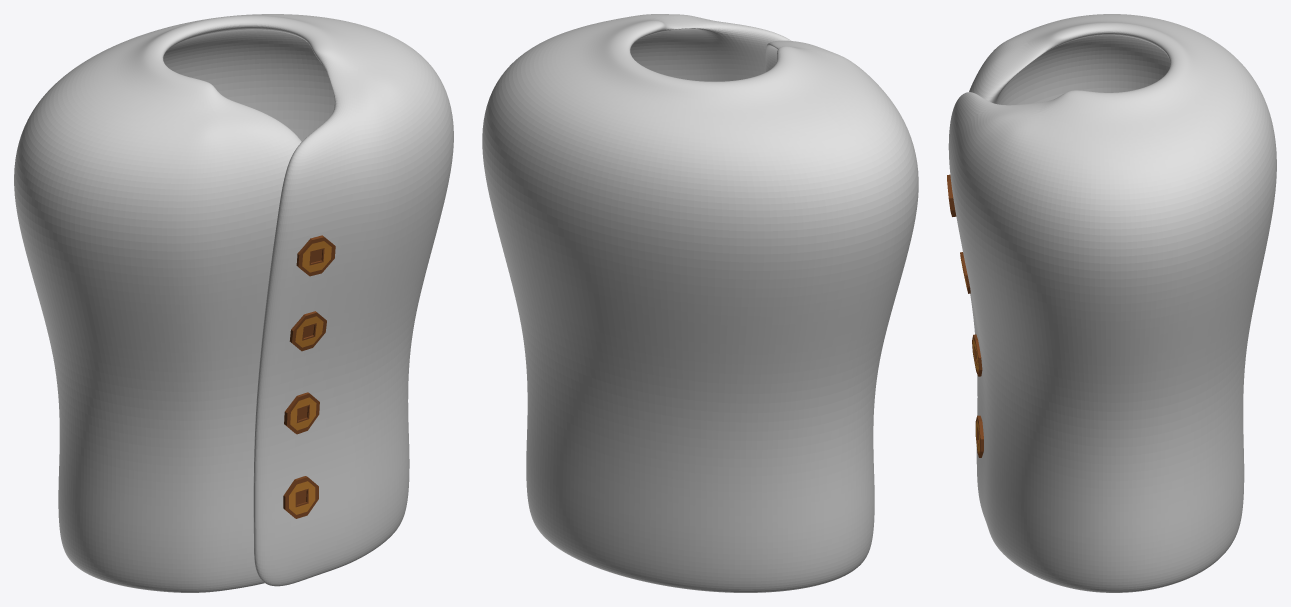
File: Shirt3.fbx
3 views of the same model, side by side, from view 1: azimuth 30°, elevation 25°; view 2: azimuth 150°, elevation 25°; view 3: azimuth 270°, elevation 25° (orthographic). The views are drawn at different scales.
Parts seen in each view (by area): view 1: Cylinder.085; view 2: Cylinder.085; view 3: Cylinder.085.
Part boxes in pixels (left/top/right/bottom): Cylinder.085: left=14, top=14, right=453, bottom=592; Cylinder.085: left=482, top=14, right=918, bottom=592; Cylinder.085: left=947, top=14, right=1276, bottom=592.
Size of the model in its own units: 195 by 144 by 223.
